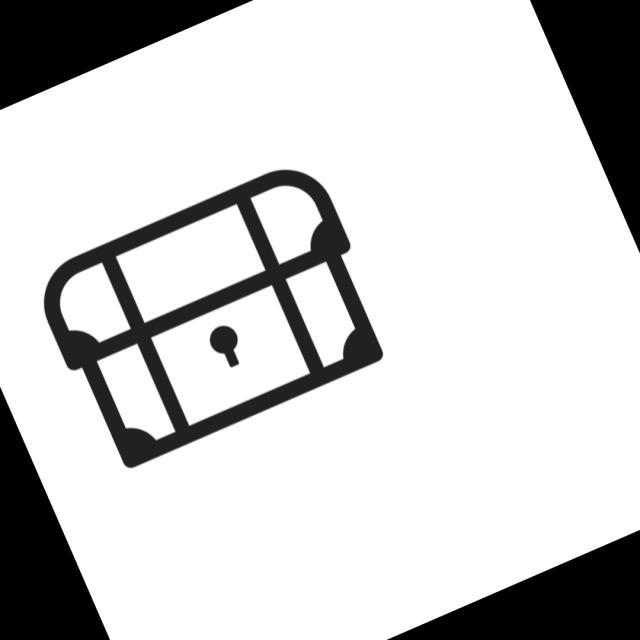treasure_box: (19, 148, 408, 493)
